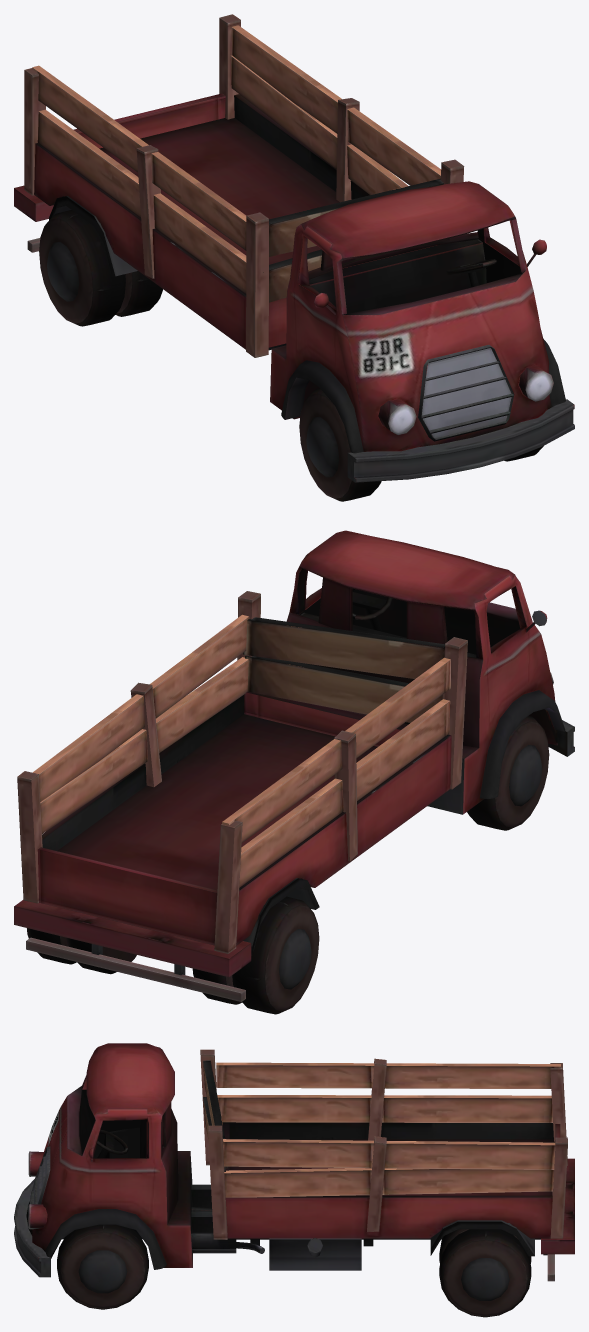
3 renders of one model, top to bottom at view 1: azimuth 30°, elevation 25°; view 2: azimuth 150°, elevation 25°; view 3: azimuth 270°, elevation 25°, orthographic. The views are drawn at different scales.
Visible parts, largest first — view 1: body0_model0_lod0_mesh0; view 2: body0_model0_lod0_mesh0; view 3: body0_model0_lod0_mesh0.
Part boxes in pixels (bbox=[...]): body0_model0_lod0_mesh0: bbox=[14, 14, 574, 501]; body0_model0_lod0_mesh0: bbox=[14, 530, 574, 1014]; body0_model0_lod0_mesh0: bbox=[14, 1043, 574, 1317].
Bounding box in the file's own units: 129 × 124 × 315.
1 material, 1 textured.
